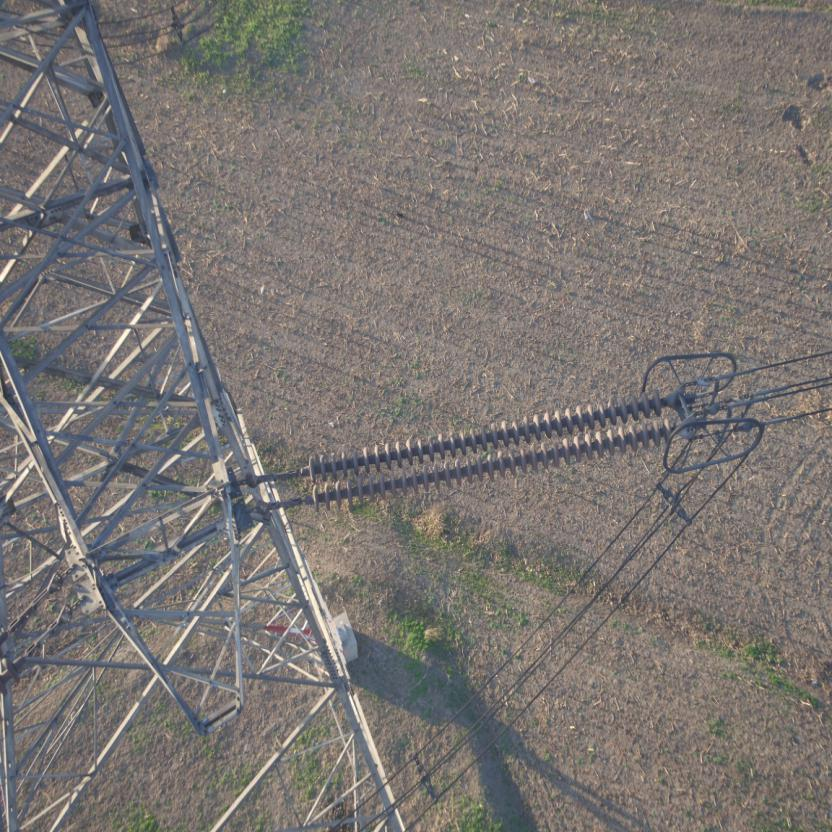insulator: (286, 384, 680, 508)
